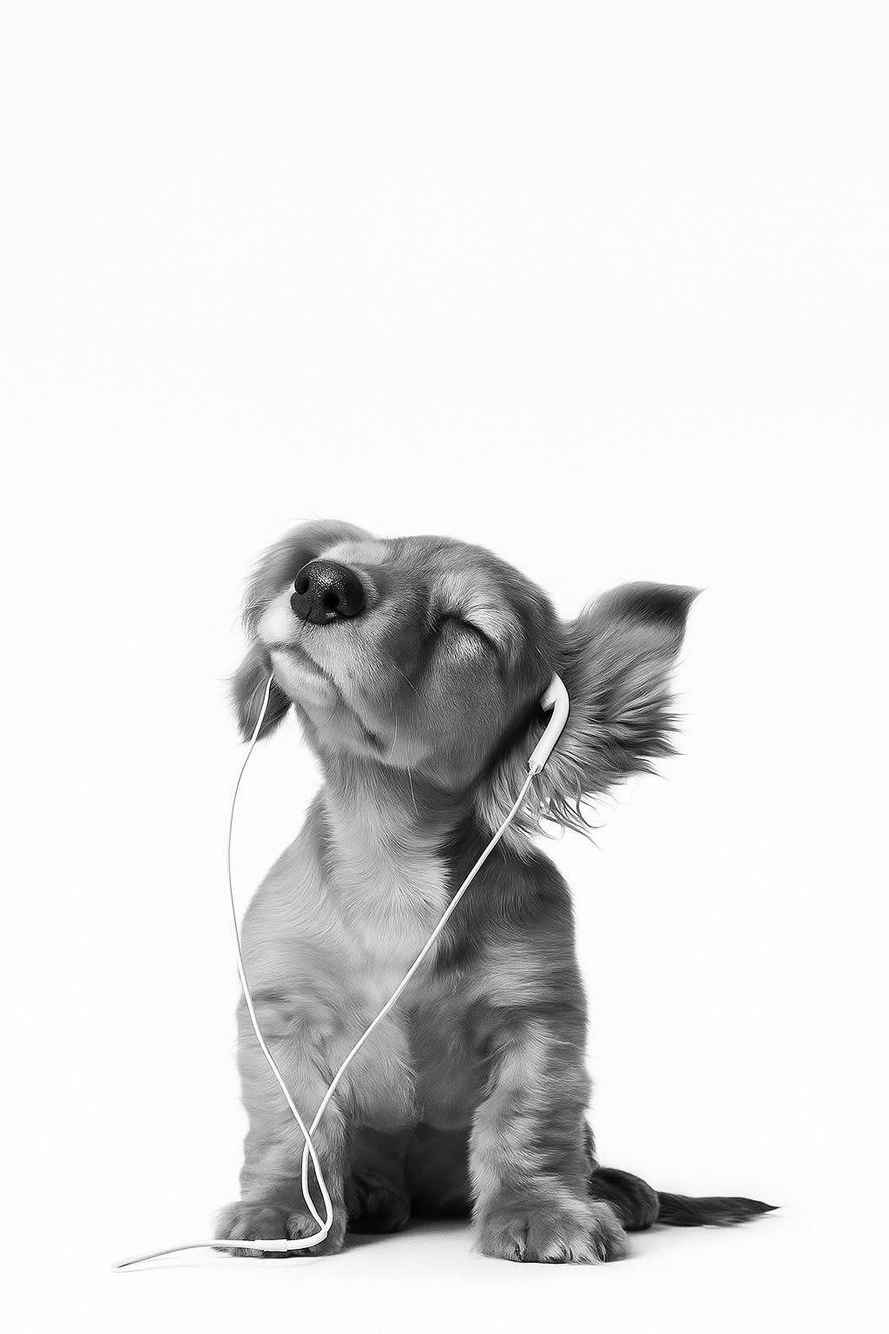puppy-dog: (207, 517, 783, 1265)
